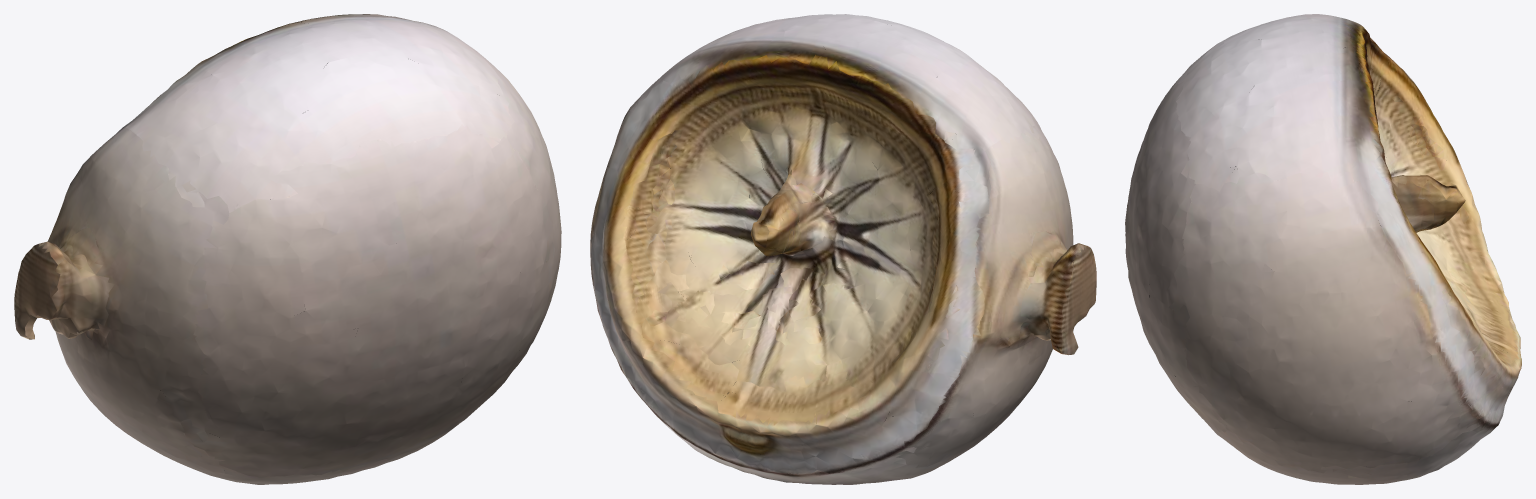
File: 15_03_40_21_brass-compass.glb
3 renders of one model, left to right at view 1: azimuth 30°, elevation 25°; view 2: azimuth 150°, elevation 25°; view 3: azimuth 270°, elevation 25°, orthographic. The views are drawn at different scales.
Visible parts, largest first — view 1: world; view 2: world; view 3: world.
Boxes of the visible parts, bbox=[...] form: world: bbox=[14, 14, 561, 484]; world: bbox=[590, 14, 1096, 484]; world: bbox=[1125, 14, 1521, 484].
Size of the model in its own units: 0.9345 by 0.7902 by 0.6945.
Materials: 1 (1 with a texture image).
